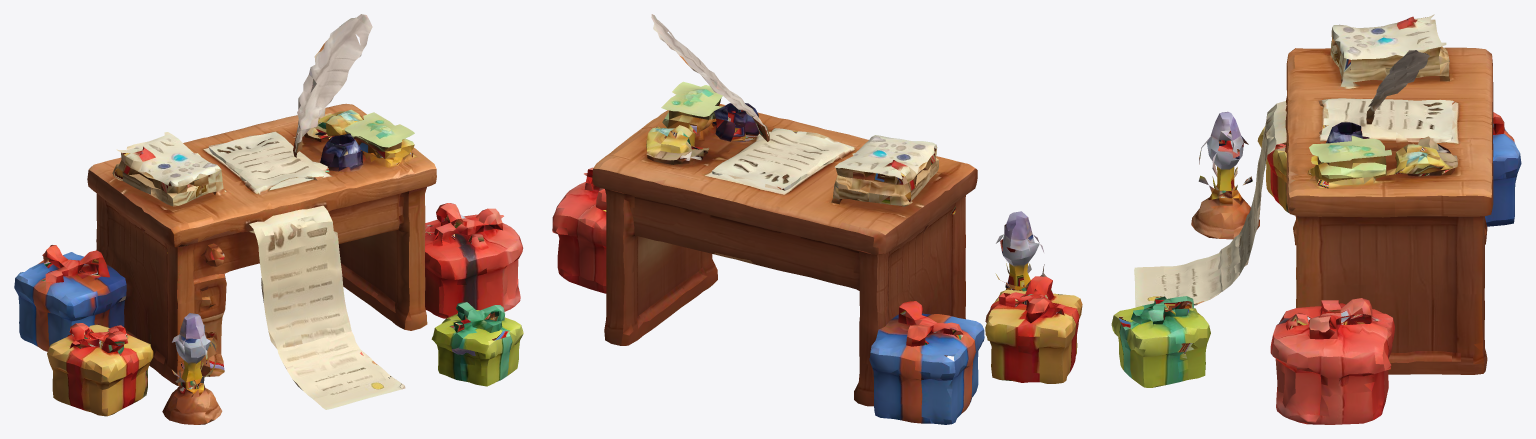
File: xsw_desk.glb
3 renders of one model, left to right at view 1: azimuth 30°, elevation 25°; view 2: azimuth 150°, elevation 25°; view 3: azimuth 270°, elevation 25°, orthographic. The views are drawn at different scales.
Parts seen in each view (by area): view 1: mesh_q; view 2: mesh_q; view 3: mesh_q.
Part boxes in pixels (left/top/right/bottom): mesh_q: left=14, top=14, right=523, bottom=424; mesh_q: left=552, top=14, right=1082, bottom=424; mesh_q: left=1111, top=14, right=1521, bottom=424.
Bounding box in the file's own units: 97.53 × 56.65 × 65.64.
1 material, 1 textured.
